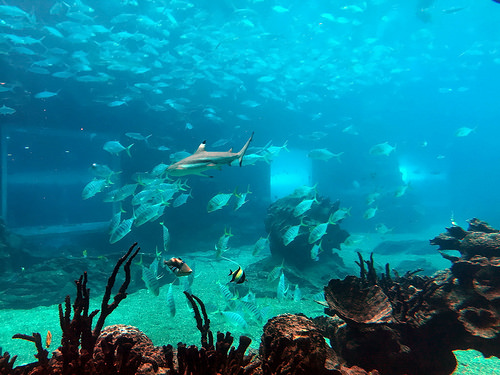shark: (153, 129, 262, 182)
